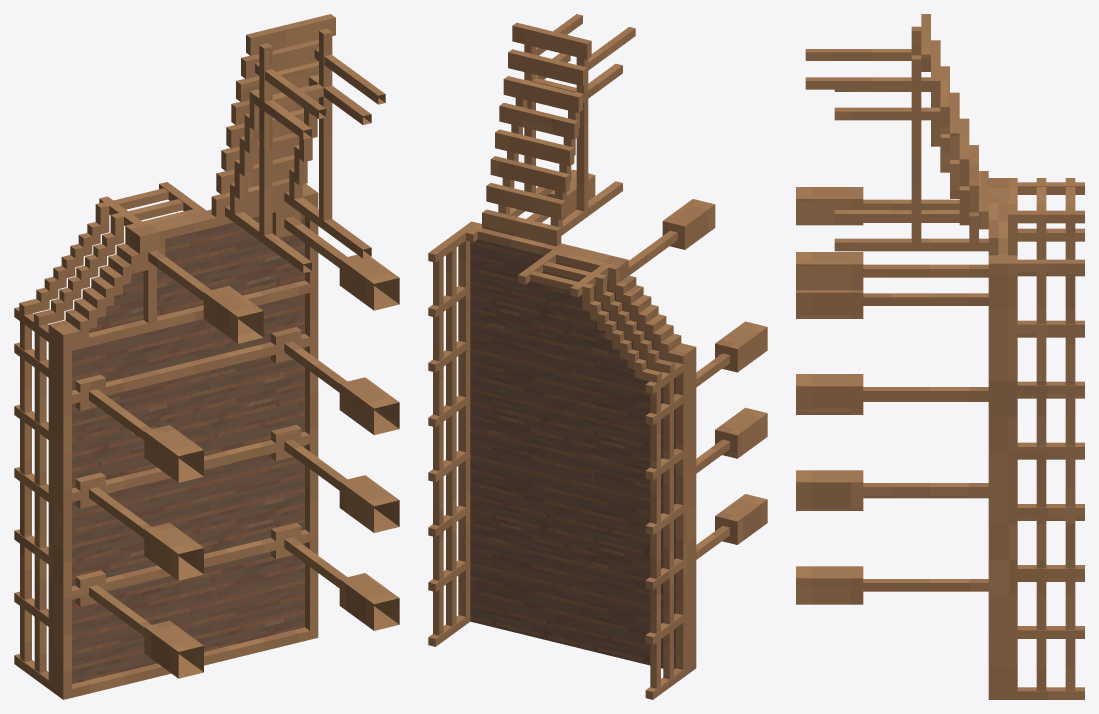
File: Patio.fbx
3 views of the same model, side by side, from view 1: azimuth 30°, elevation 25°; view 2: azimuth 150°, elevation 25°; view 3: azimuth 270°, elevation 25° (orthographic). The views are drawn at different scales.
Parts seen in each view (by area): view 1: Patio; view 2: Patio; view 3: Patio.
Part boxes in pixels (x1=…): Patio: x1=14, y1=14, x2=399, y2=699; Patio: x1=428, y1=14, x2=767, y2=699; Patio: x1=796, y1=14, x2=1084, y2=699.
Size of the model in its own units: 300 by 730 by 300.
2 materials, 2 textured.
